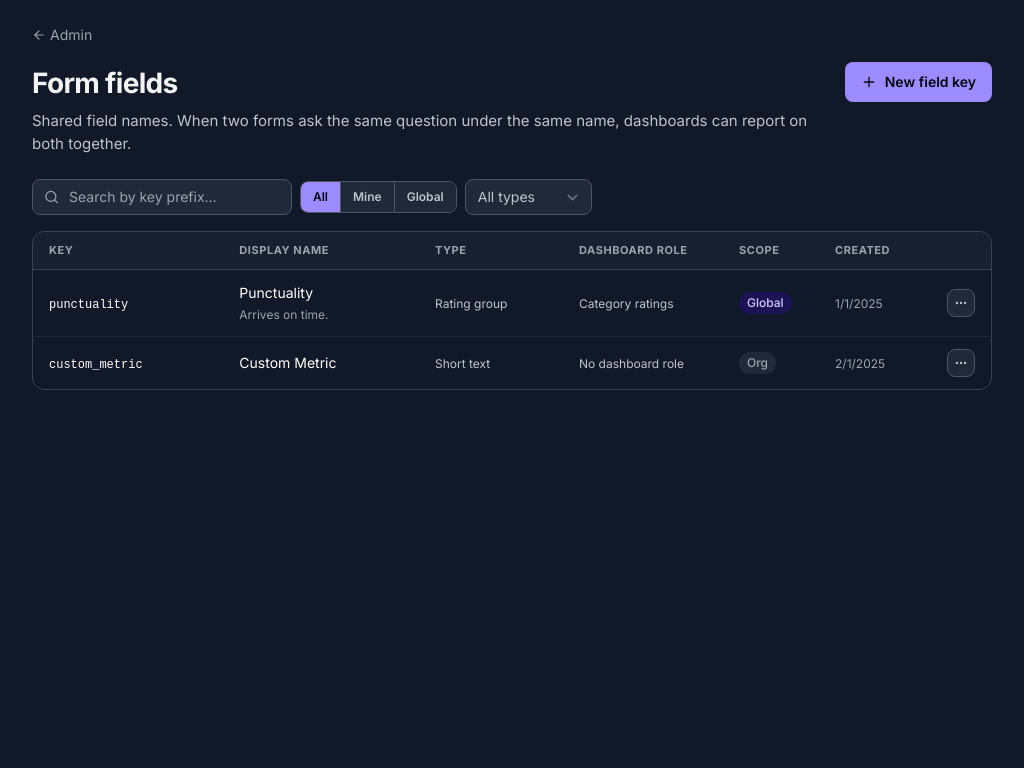
Test case: FieldKeyListPage (3.29) › creates a new field key and refreshes the list
Expected: the element with test id "fk-table" is shown, [32,231,992,390]
Click the button with test id "fk-new-btn": (918, 82) [845,62,992,102]
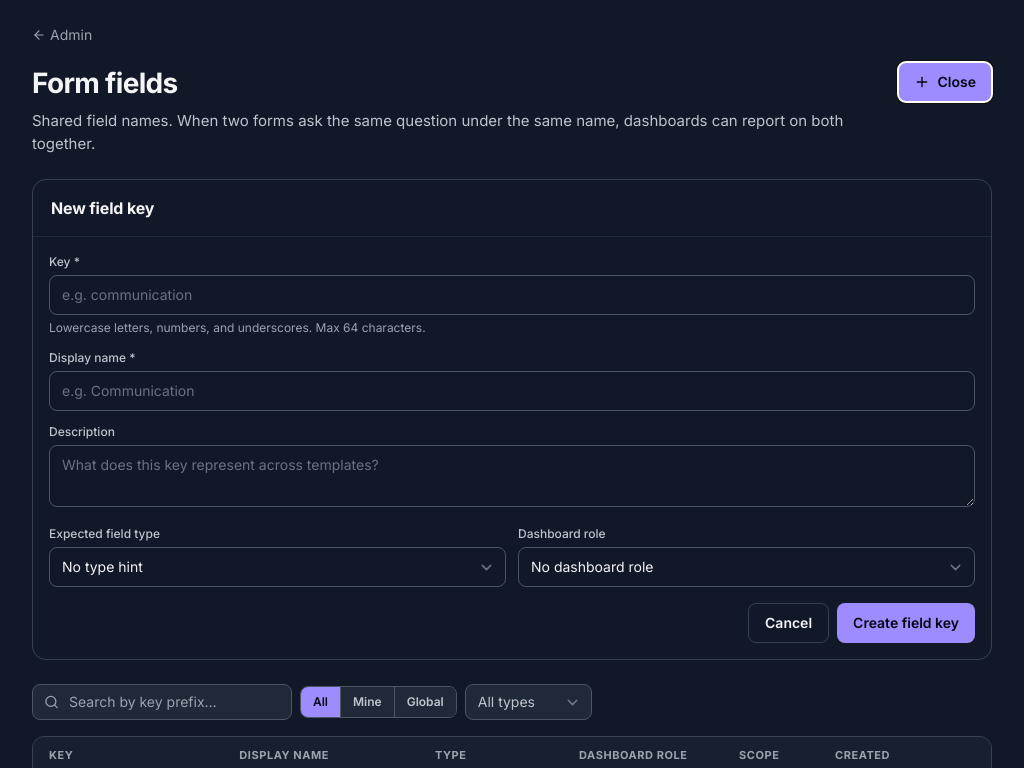
Now the element with test id "fk-create-form" is shown, box [32,179,992,660]
In the field with test id "fk-form-key": (512, 295) [49,275,975,315], type "energy"
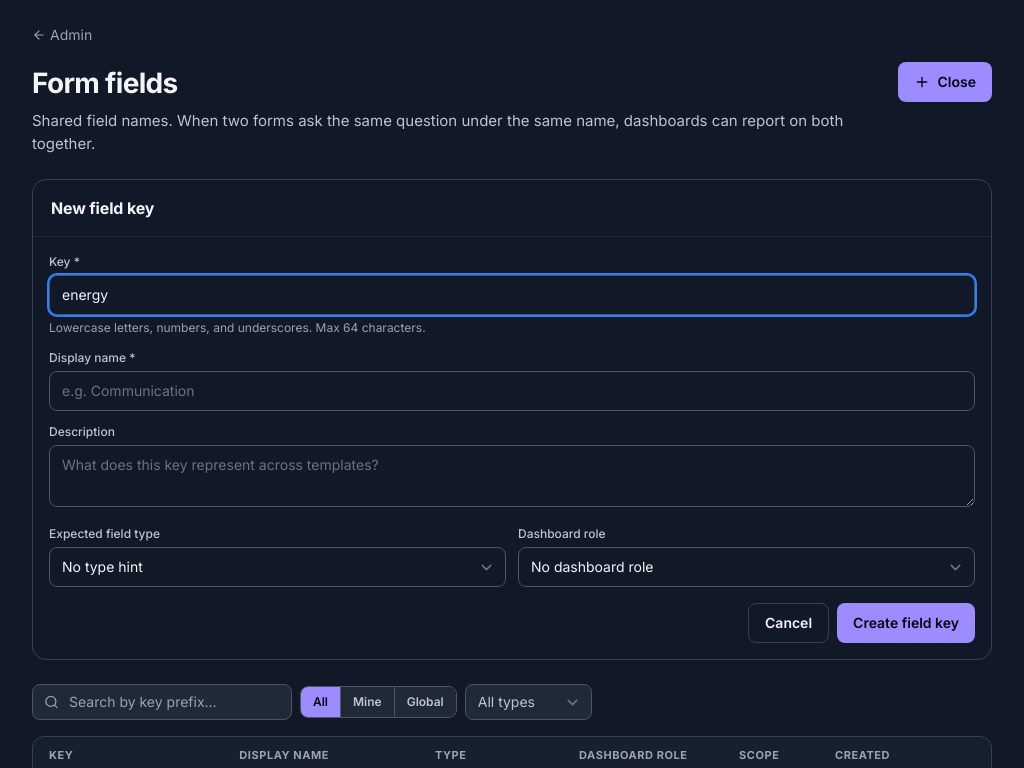
In the field with test id "fk-form-display-name": (512, 391) [49,371,975,411], type "Energy"
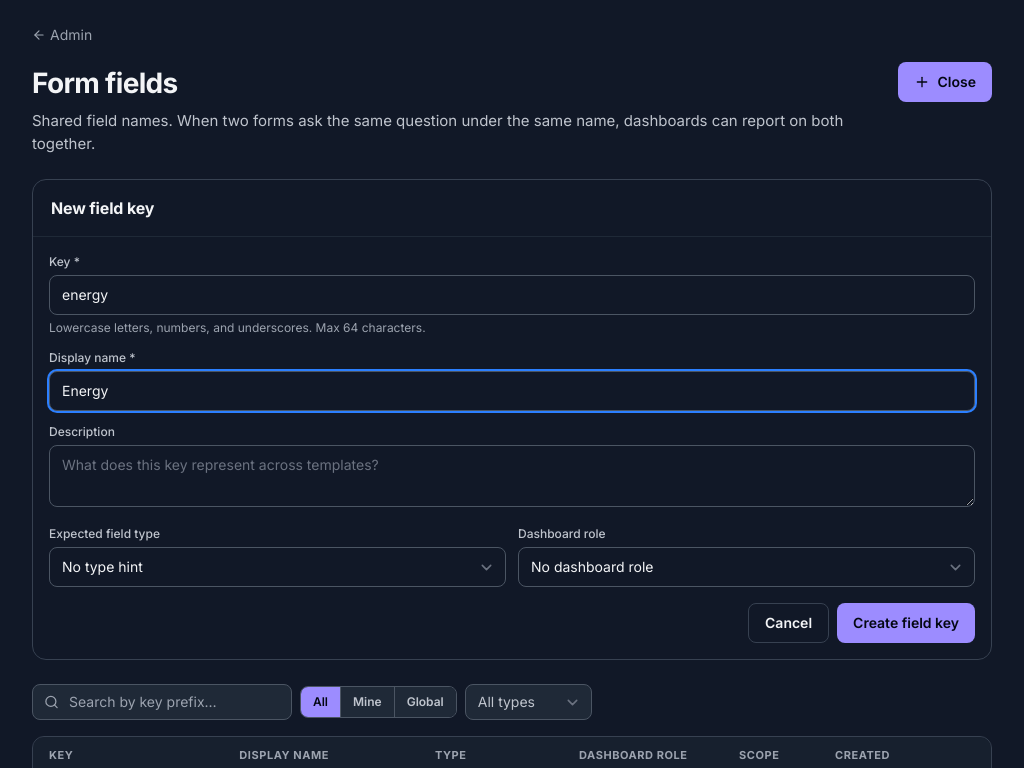
Click the button with test id "fk-create-submit": (906, 623) [837,603,975,643]
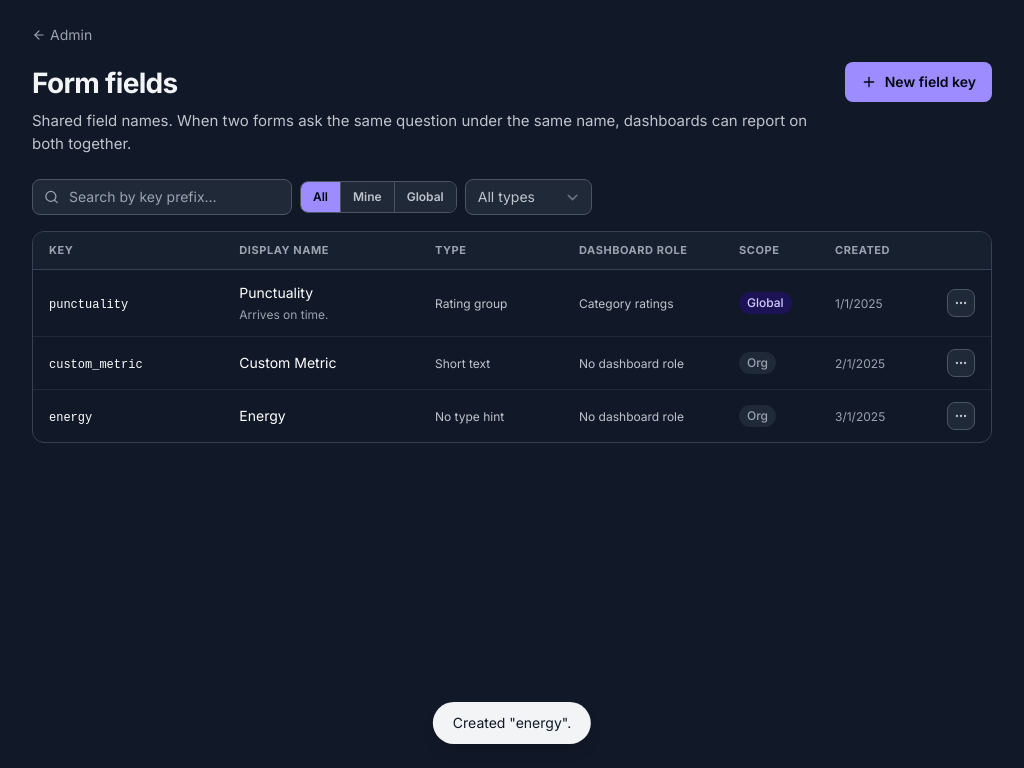
Now the row with test id "fk-row-energy" is shown, box [33,389,991,442]
